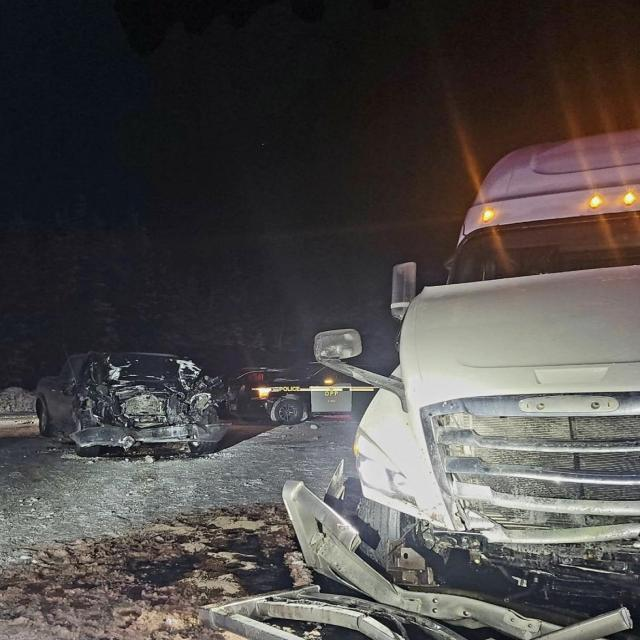Accident: (202, 127, 640, 640), (29, 340, 248, 466)
